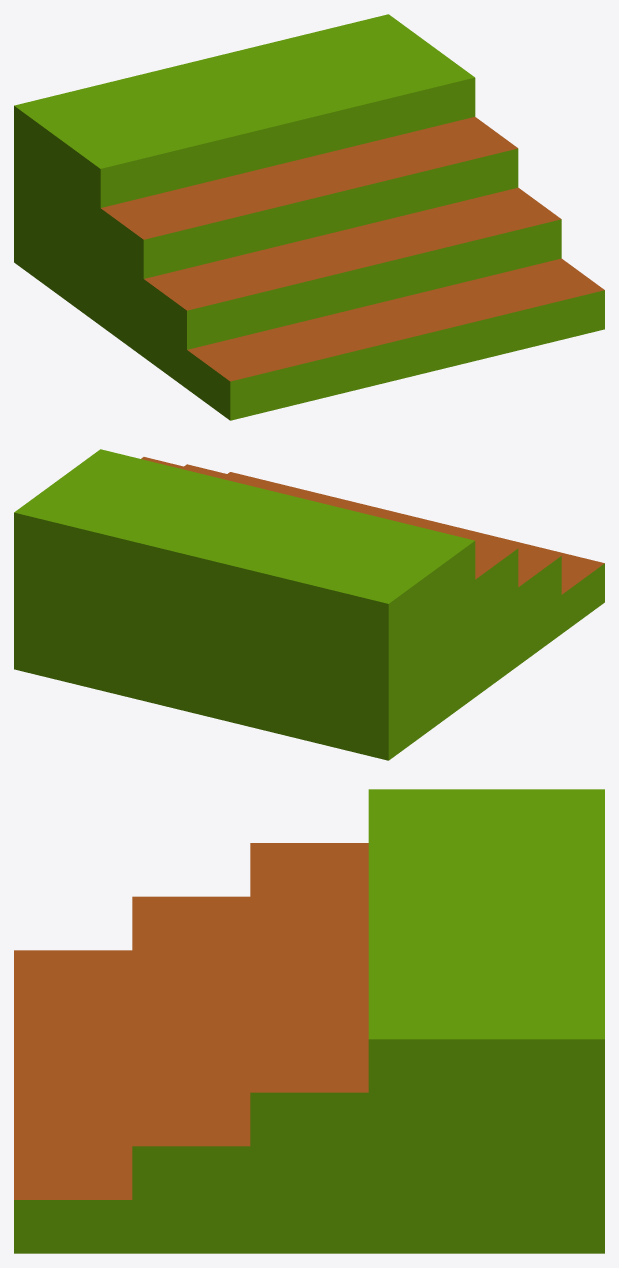
File: TileGround_31.fbx
3 renders of one model, top to bottom at view 1: azimuth 30°, elevation 25°; view 2: azimuth 150°, elevation 25°; view 3: azimuth 270°, elevation 25°, orthographic. The views are drawn at different scales.
Visible parts, largest first — view 1: TileGround_31; view 2: TileGround_31; view 3: TileGround_31.
Part boxes in pixels (<box>): TileGround_31: <box>14,14,604,420</box>; TileGround_31: <box>14,449,604,760</box>; TileGround_31: <box>14,789,604,1253</box>.
Size of the model in its own units: 500 by 200 by 500.
